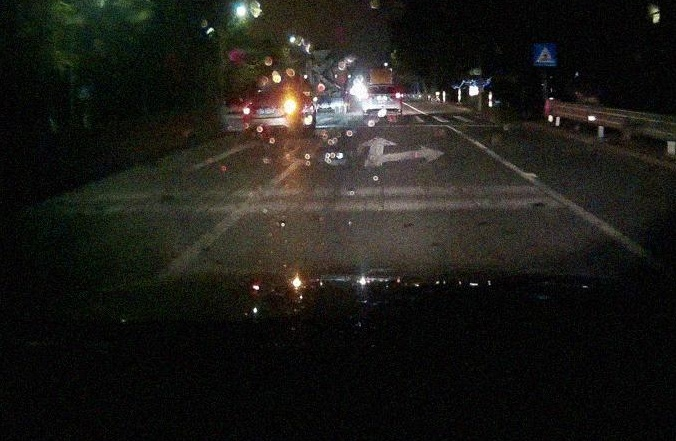L_light: (242, 105, 261, 114), (363, 95, 374, 99)
R_light: (277, 102, 294, 111), (389, 93, 401, 98)
T_light: (271, 90, 282, 92), (379, 85, 388, 87)
night-no: (362, 84, 402, 119)
night-right: (242, 88, 300, 140)
